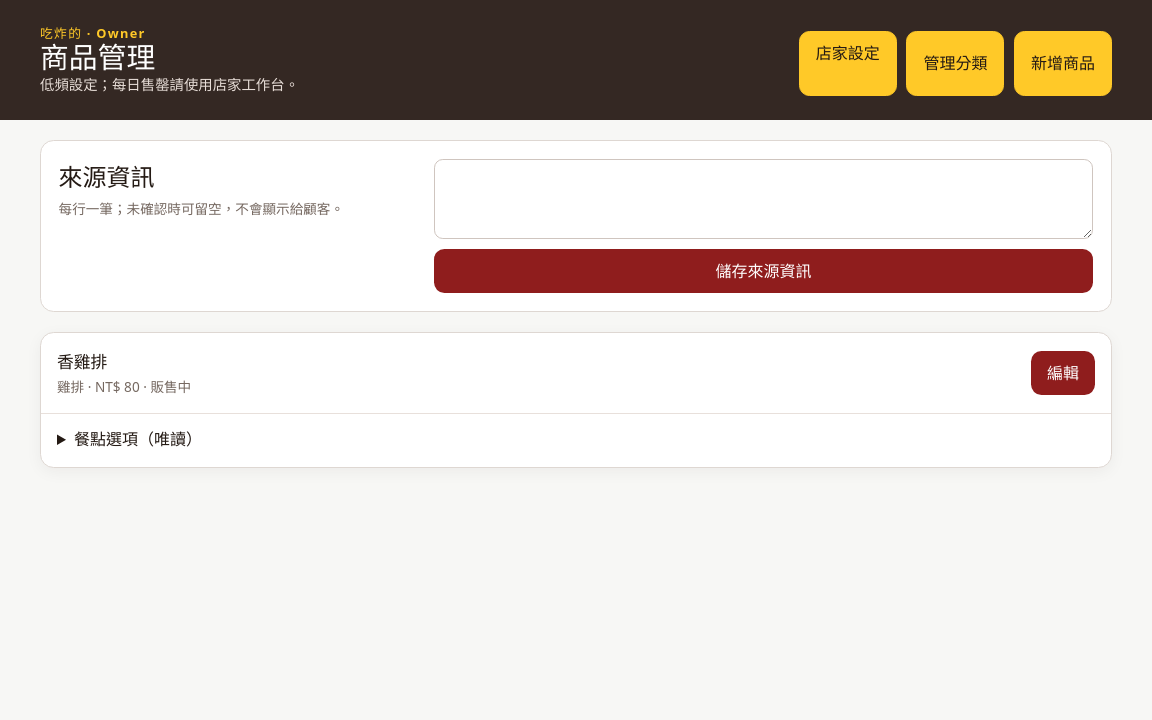
Test: Admin menu UI › creates and renames categories with explicit saves
This screenshot has width=1152, height=720.
Expected: the heading "商品管理" is shown, [40, 37, 155, 76]
Expected: the heading "香雞排" is shown, [57, 350, 107, 373]
Click the button "管理分類" at {"x": 955, "y": 63}, box [906, 31, 1004, 96]
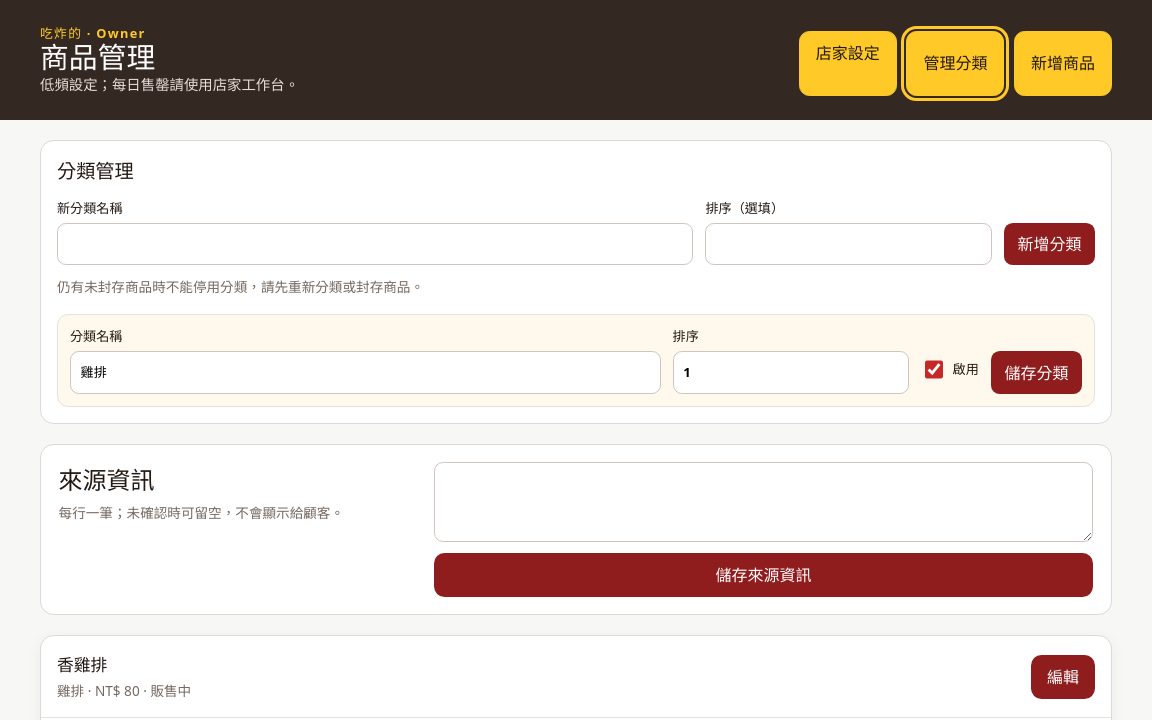
Type "點心" into the field labelled "新分類名稱" at {"x": 375, "y": 244}, box [57, 223, 693, 266]
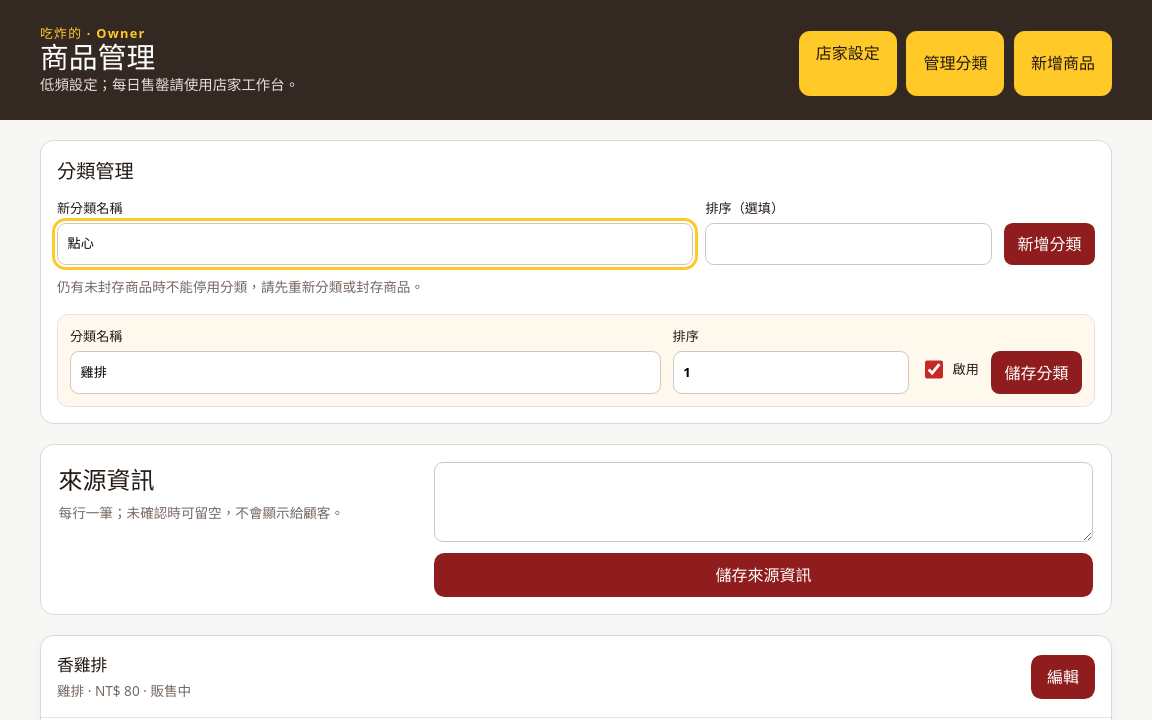
Click the button "新增分類" at {"x": 1049, "y": 244}, box [1004, 223, 1095, 266]
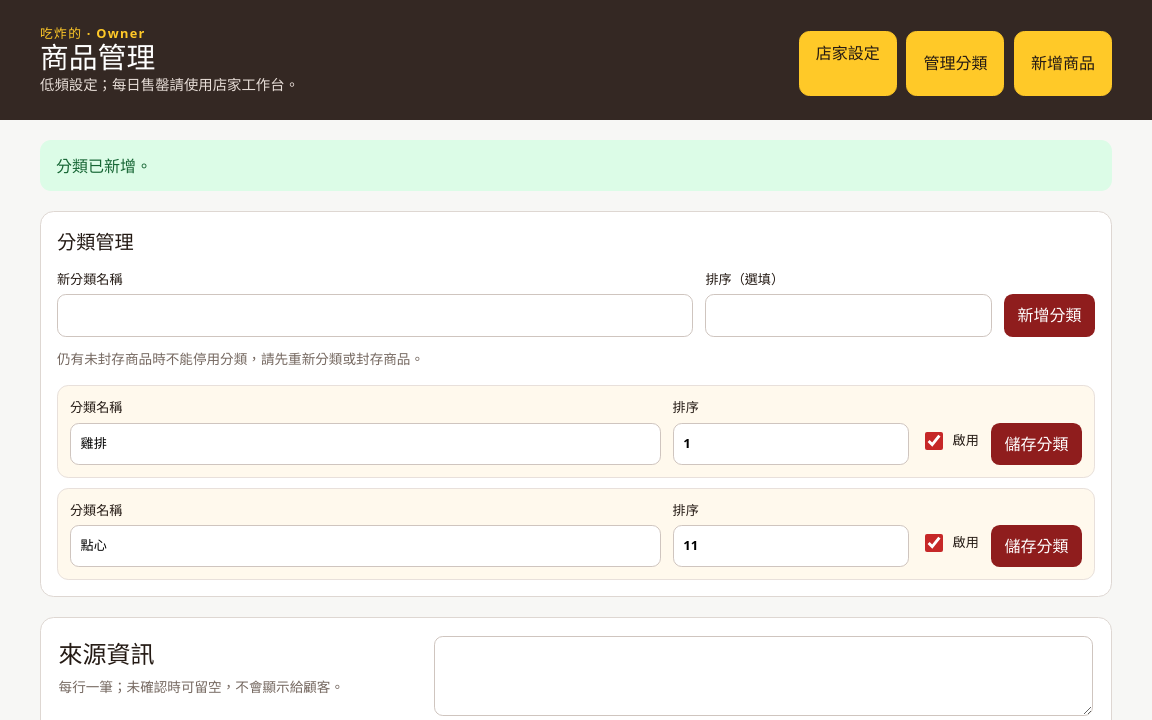
Now the text "分類已新增。" is shown, box [40, 140, 1112, 191]
Now the 2nd field showing "點心" is shown, box [70, 525, 660, 567]
Replace the text in the 1st field labelled "分類名稱" with "招牌雞排" at {"x": 365, "y": 444}, box [70, 422, 660, 465]
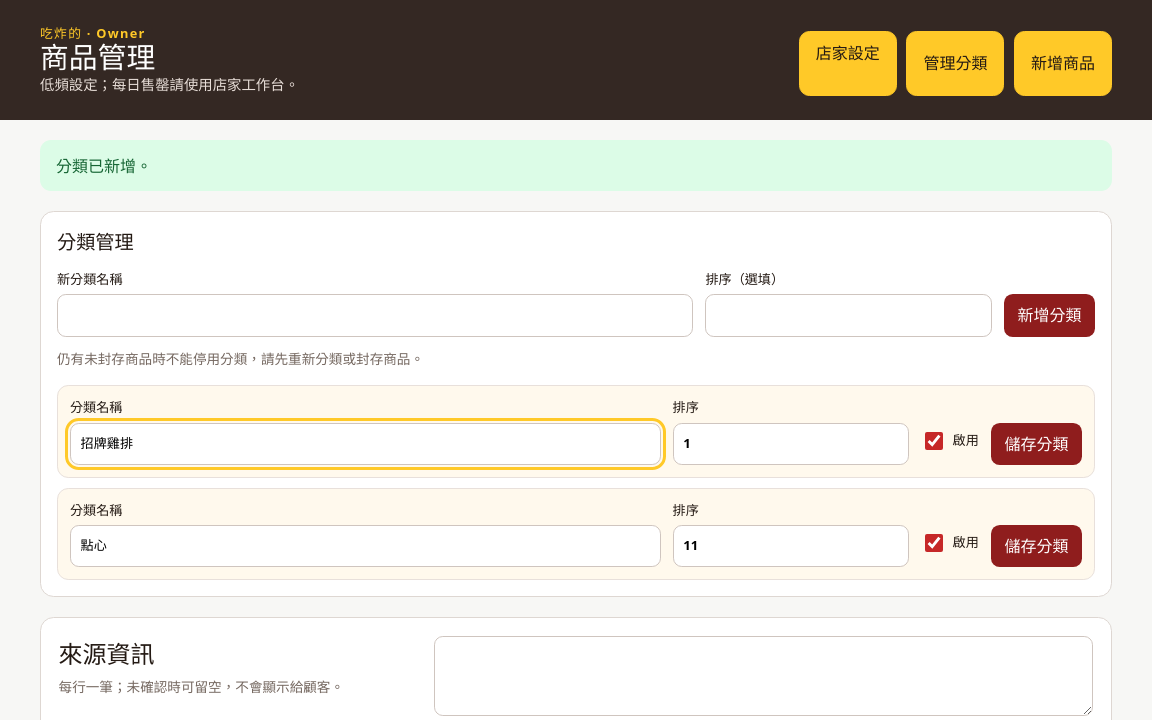
Click the 1st button "儲存分類" at {"x": 1036, "y": 444}, box [991, 422, 1082, 465]
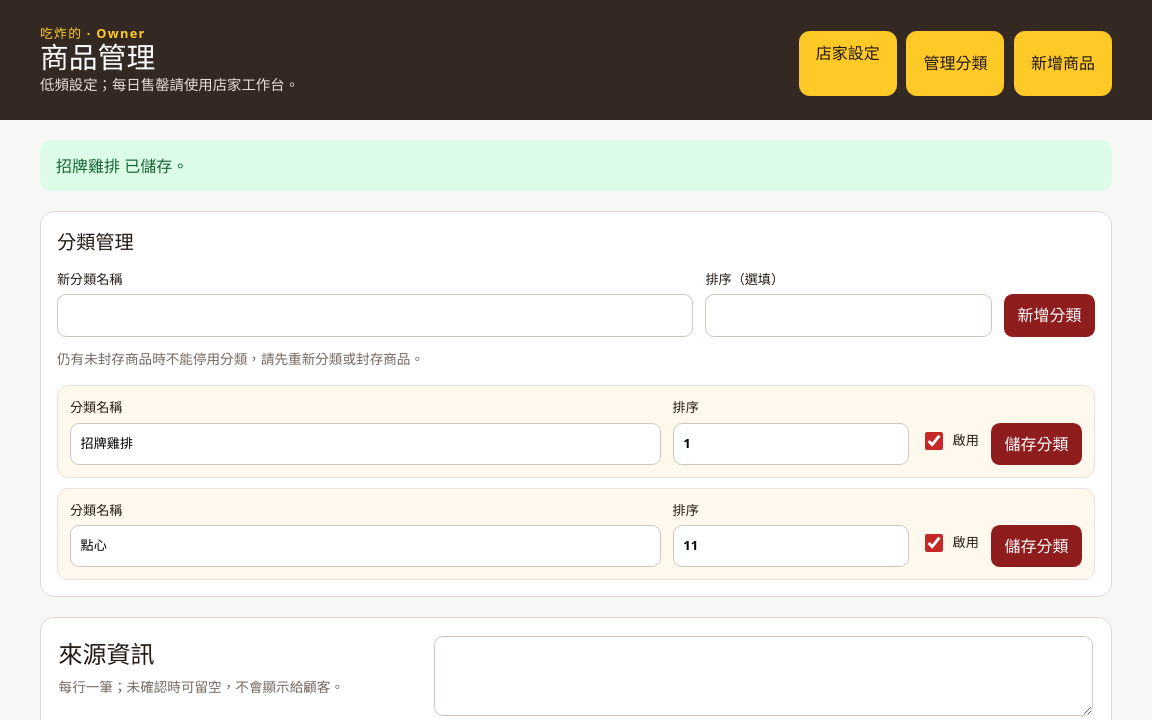
Now the text "招牌雞排 已儲存。" is shown, box [40, 140, 1112, 191]
